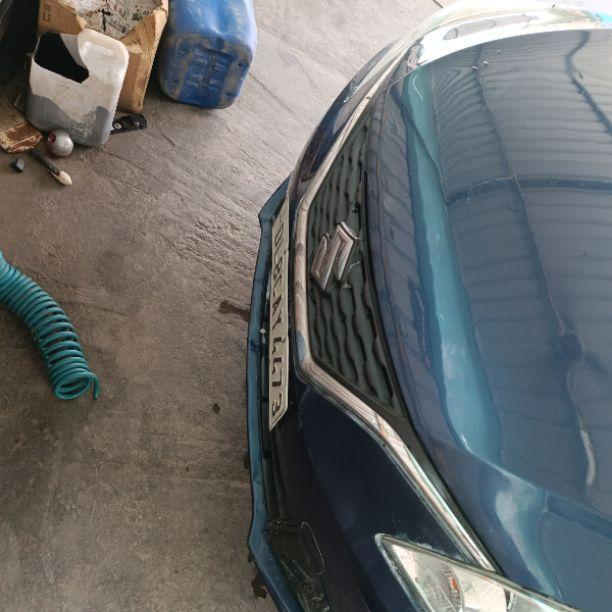license_plate: (243, 0, 611, 611), (264, 187, 291, 431)
